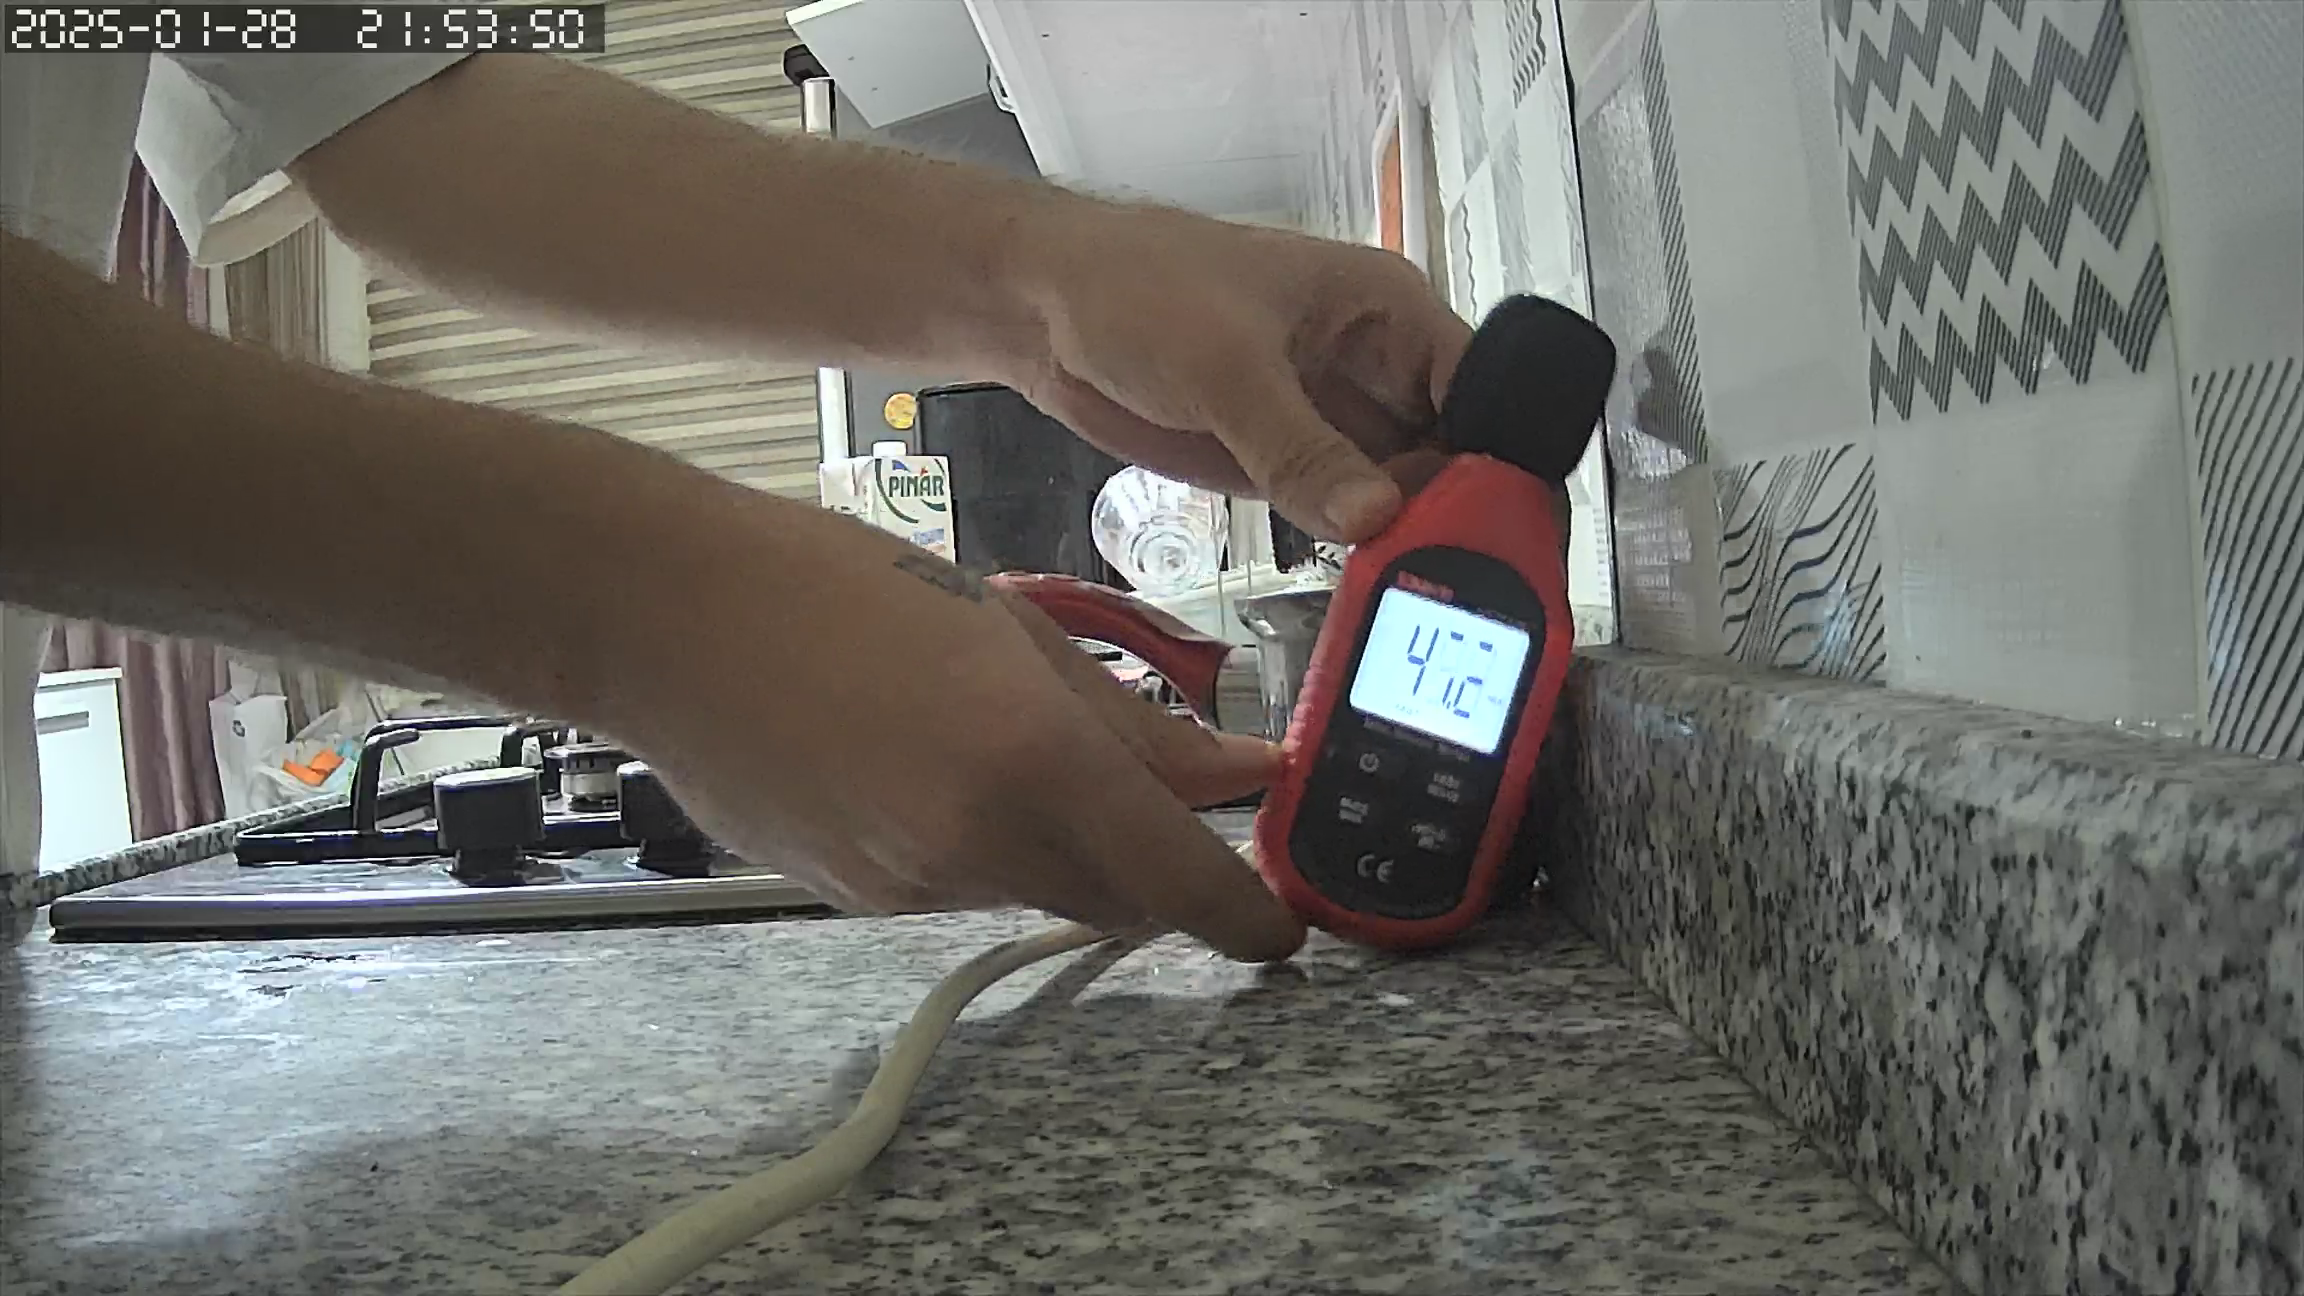screen: (1350, 589, 1530, 753)
